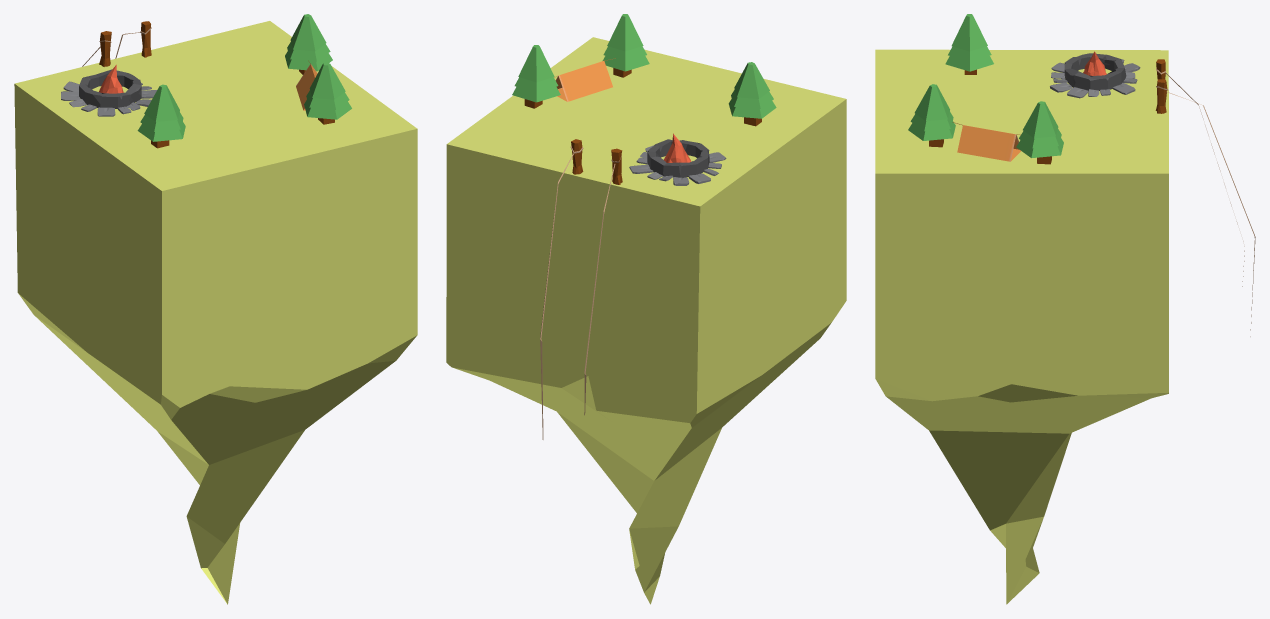
File: pulau3.fbx
3 views of the same model, side by side, from view 1: azimuth 30°, elevation 25°; view 2: azimuth 150°, elevation 25°; view 3: azimuth 270°, elevation 25° (orthographic).
Visible parts, largest first — view 1: Cube.001; view 2: Cube.001; view 3: Cube.001.
Part boxes in pixels (x1,y1,x2,y2): Cube.001: [14, 14, 417, 604]; Cube.001: [446, 14, 846, 604]; Cube.001: [875, 14, 1255, 604].
Bounding box in the file's own units: 161 × 333 × 209.
